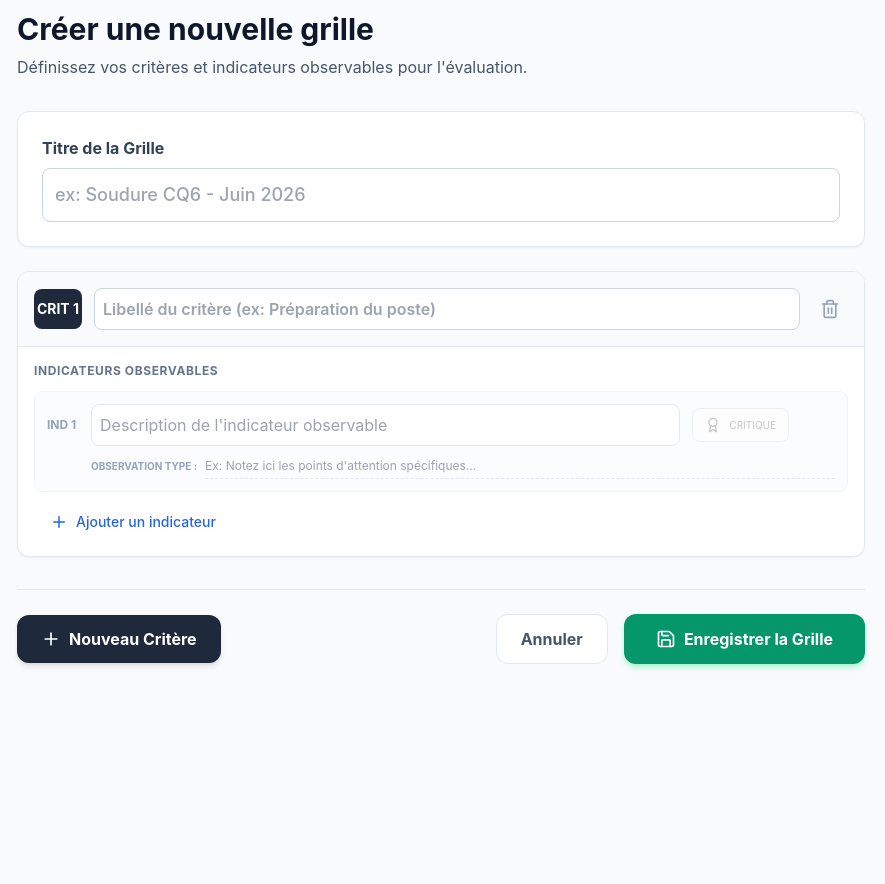
Test: GridEditor › should add a new competency
Click the button "Nouveau Critère" at (119, 639), box top-left (17, 615), bottom-right (221, 663)
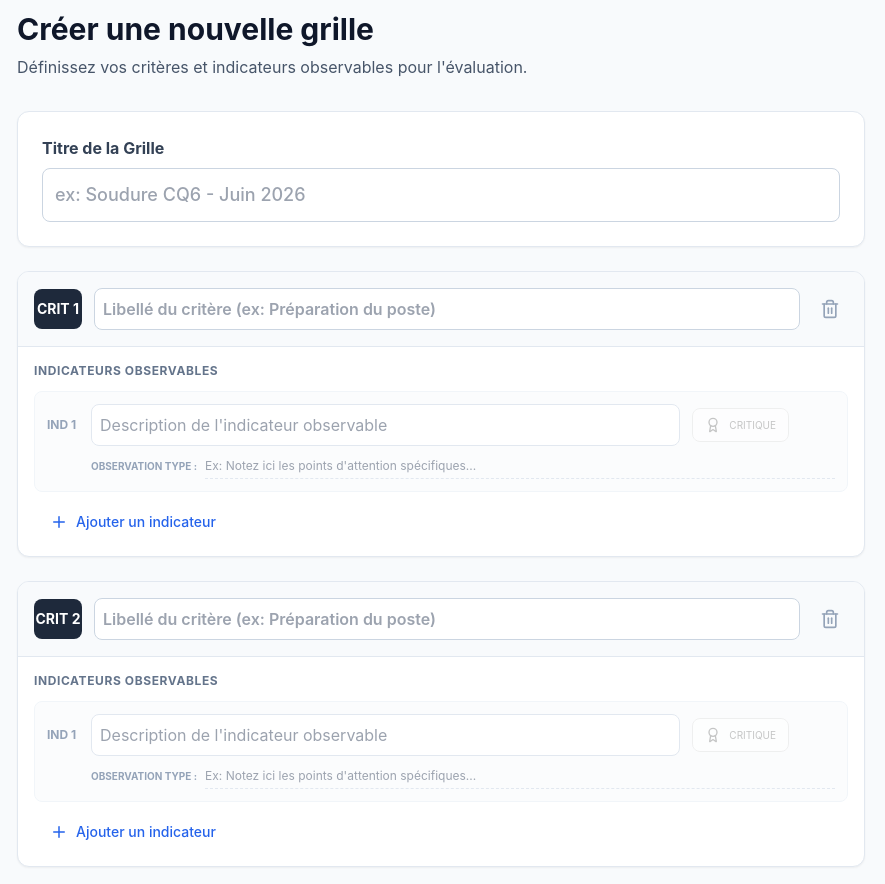
Now the number of fields with placeholder "Libellé du critère (ex: Préparation du poste)" is 2, box top-left (94, 288), bottom-right (800, 330); top-left (94, 598), bottom-right (800, 640)
